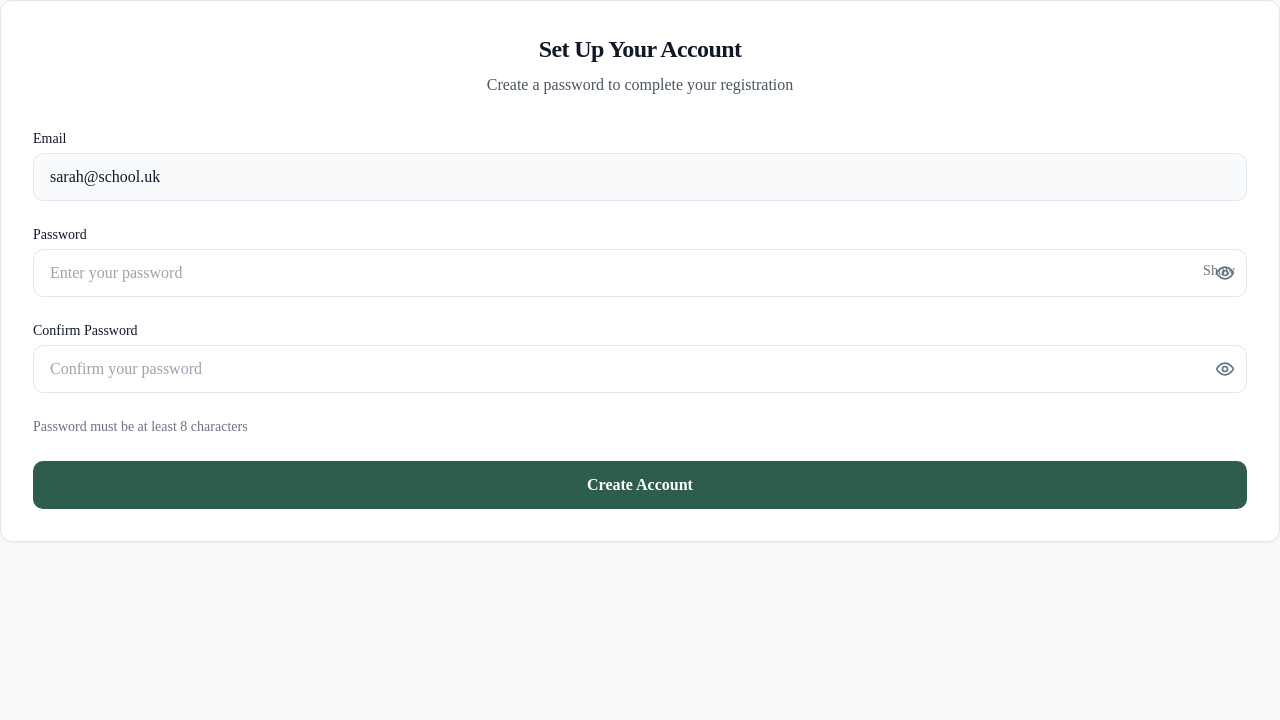
Test case: SetupPage › form validation › shows error when password is too short
In the password field labelled "Password": (640,273) [33,249,1247,297], type "short"
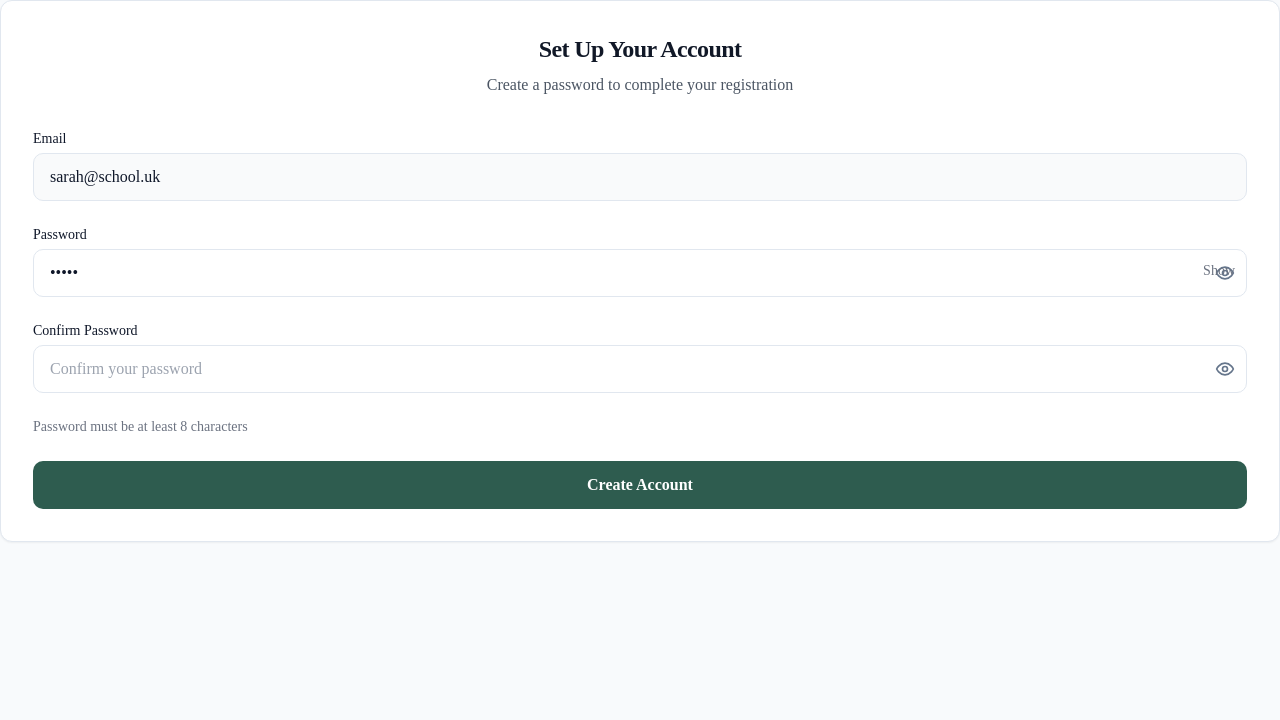
In the password field labelled "Confirm Password": (640,369) [33,345,1247,393], type "short"
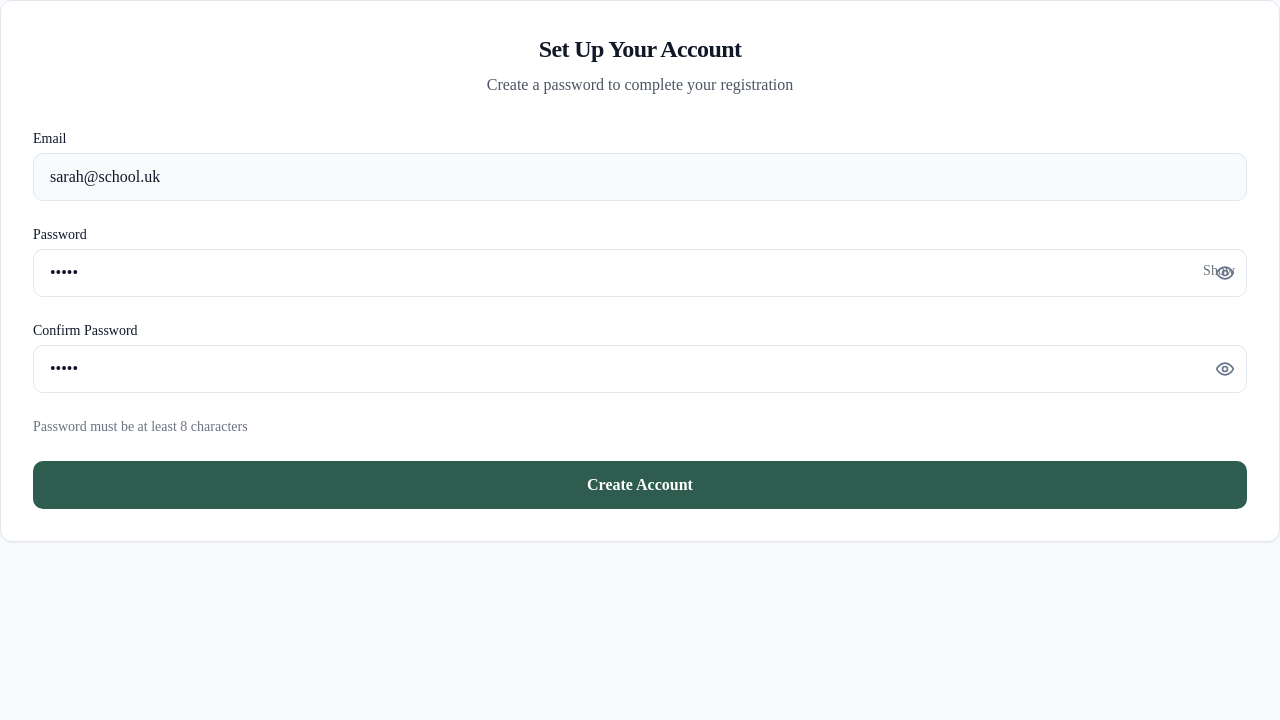
Click the button "Create Account": (640,485) [33,461,1247,509]
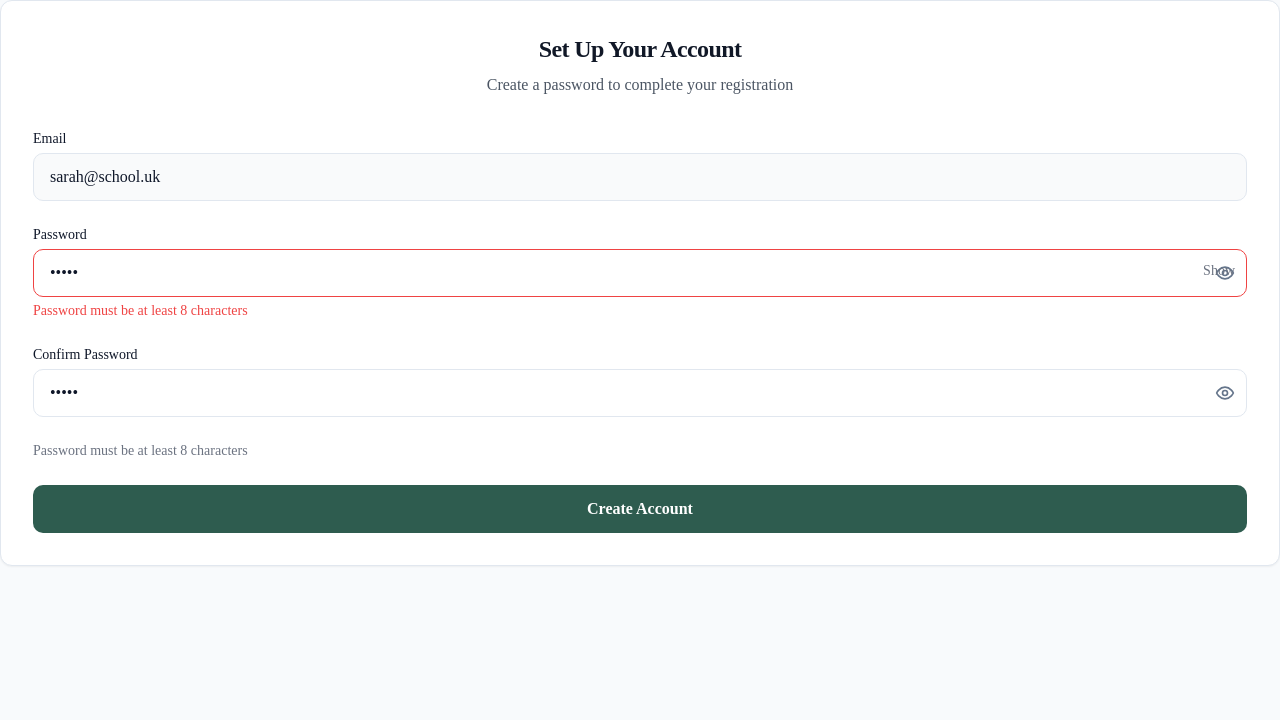
Check: the 1st text "Password must be at least 8 characters" is shown, box [33,303,248,318]
